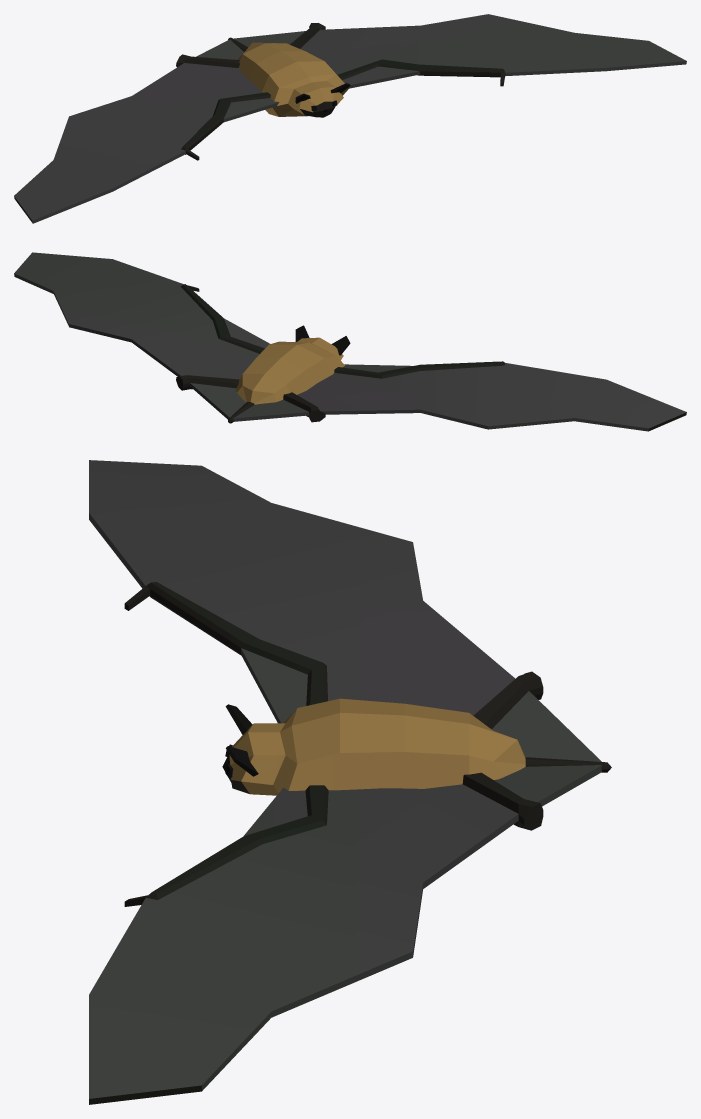
Rendered from a6ZmdFKog_u.glb.
3 views of the same model, one above another, from view 1: azimuth 30°, elevation 25°; view 2: azimuth 150°, elevation 25°; view 3: azimuth 270°, elevation 25° (orthographic). The views are drawn at different scales.
Parts seen in each view (by area): view 1: Geo_Bat; view 2: Geo_Bat; view 3: Geo_Bat.
Part boxes in pixels (x1=…): Geo_Bat: x1=14, y1=14, x2=686, y2=223; Geo_Bat: x1=14, y1=252, x2=686, y2=431; Geo_Bat: x1=89, y1=460, x2=611, y2=1104.
Bounding box in the file's own units: 13.12 × 0.9992 × 4.54.
1 material, 1 textured.
